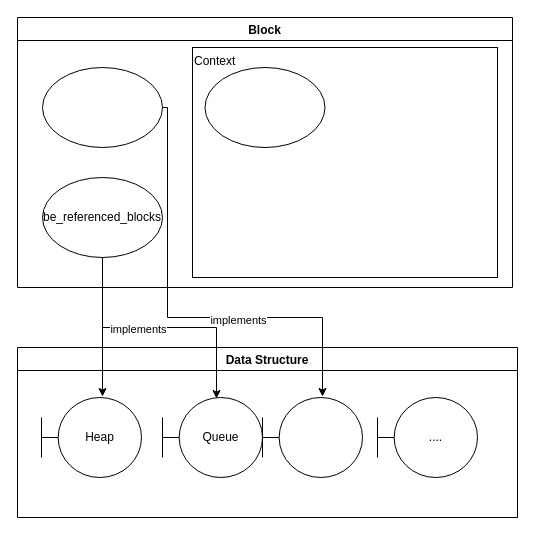
The diagram is 535 pixels wide and 535 high, and some of its shapes have lost their labels. Here are the shapes that lost their labels. From the top down, the centre of each, then its label:
At (102,107): "reference_blocks".
At (264,107): "keywords".
At (312,437): "Tree".
